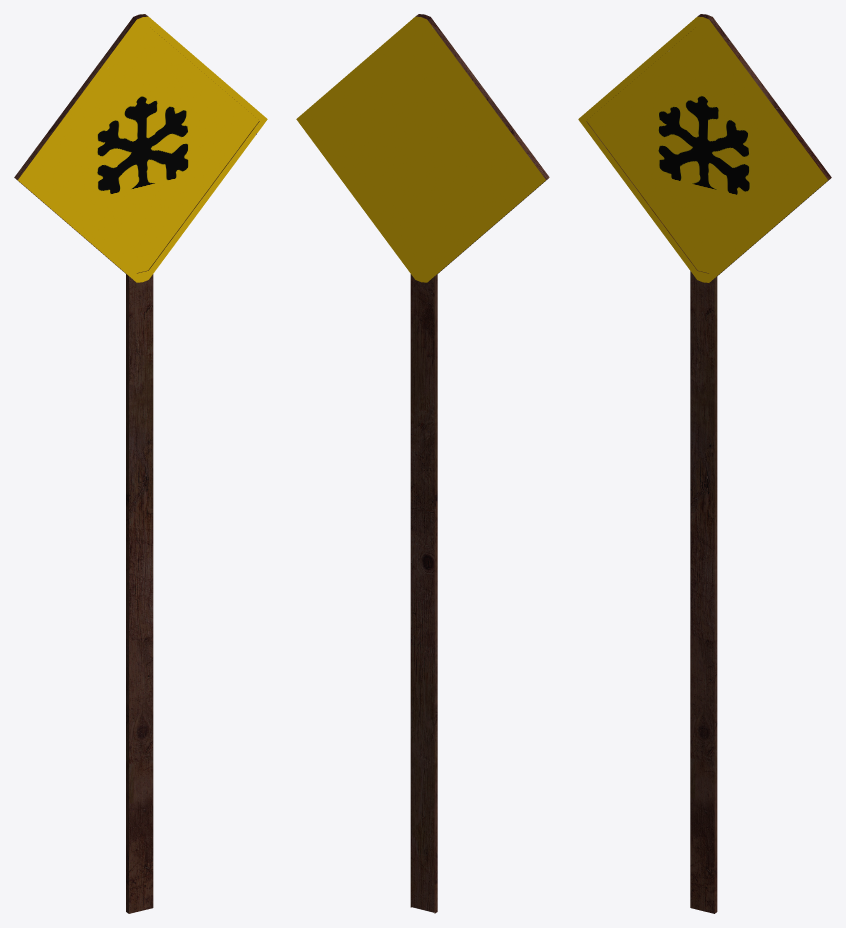
The model's file is senal.obj.
The picture shows the model from 3 angles, left to right: view 1: azimuth 30°, elevation 25°; view 2: azimuth 150°, elevation 25°; view 3: azimuth 330°, elevation 25°; orthographic projection.
Visible parts, largest first — view 1: objSign_signal; view 2: objSign_signal; view 3: objSign_signal.
Boxes of the visible parts, x1,y1,x2,y2 form: objSign_signal: [14, 14, 267, 913]; objSign_signal: [296, 14, 549, 913]; objSign_signal: [578, 14, 831, 913].
Bounding box in the file's own units: 2.64 × 9.01 × 0.0653.
1 material, 1 textured.
